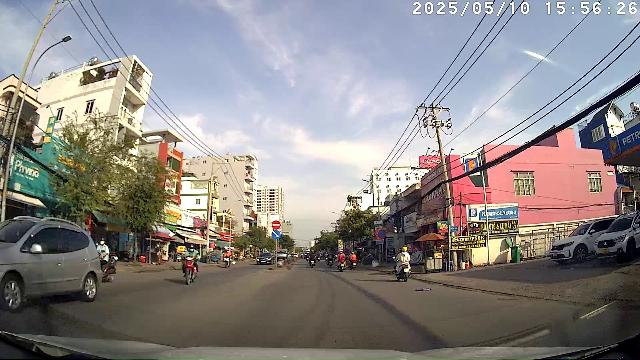102-cam-di-nguoc-chieu: (272, 220, 281, 229)
131a-cam-do-xe: (378, 229, 386, 239)
302a-huong-phai-di-vong-chuong-ngai-vat-1: (271, 230, 281, 239)
